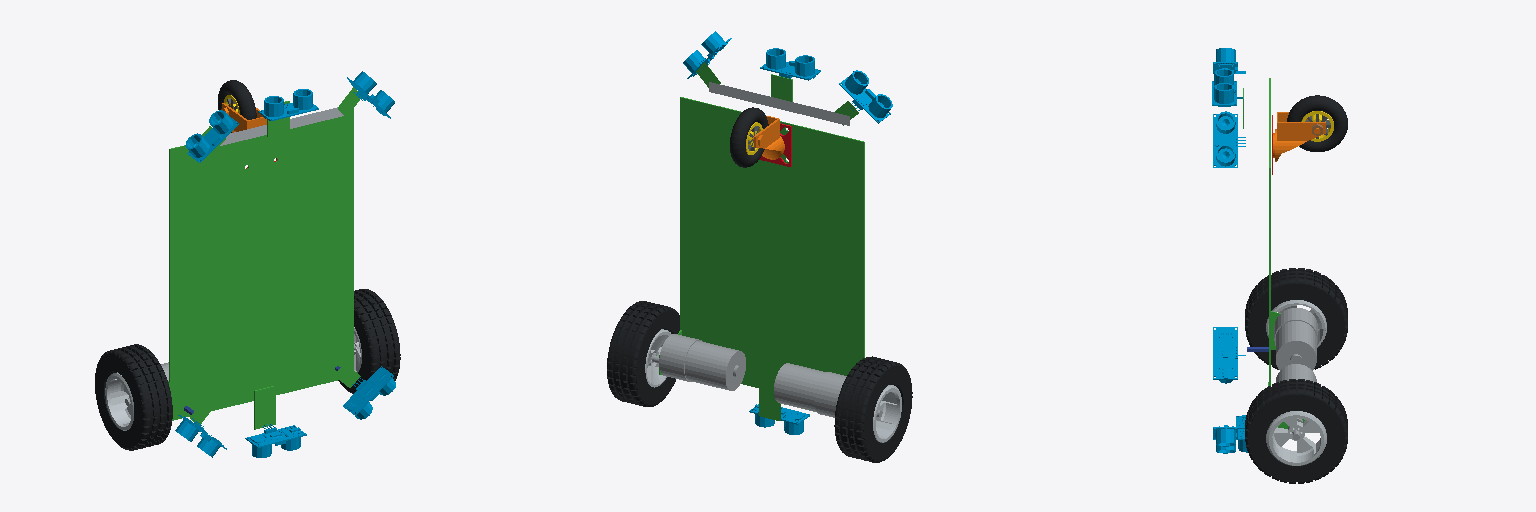
File: tinker.obj
The picture shows the model from 3 angles: view 1: azimuth 30°, elevation 25°; view 2: azimuth 150°, elevation 25°; view 3: azimuth 270°, elevation 25°; orthographic projection.
Visible parts, largest first — view 1: obj_0; view 2: obj_0; view 3: obj_0.
Part boxes in pixels (bbox=[...]): obj_0: bbox=[95, 71, 400, 457]; obj_0: bbox=[607, 31, 912, 462]; obj_0: bbox=[1212, 48, 1347, 483].
Size of the model in its own units: 237 by 325 by 109.